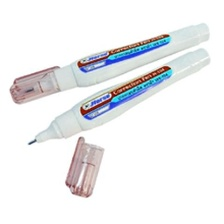correction_fluid: (25, 45, 212, 146), (6, 22, 210, 107)
